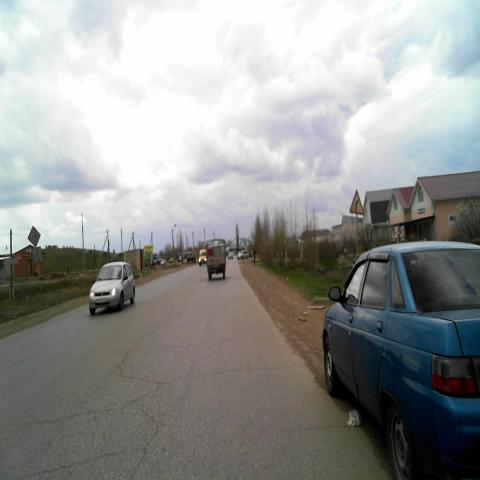1_11: (348, 191, 364, 216)
